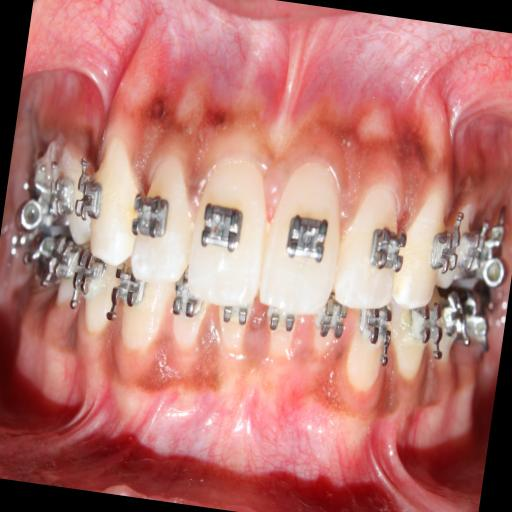correct_brace: (281, 207, 332, 269), (198, 196, 247, 254), (128, 186, 170, 246), (365, 219, 410, 274), (425, 222, 462, 276), (72, 170, 104, 228)
incorrect_brace: (337, 160, 414, 318), (124, 150, 200, 288)
